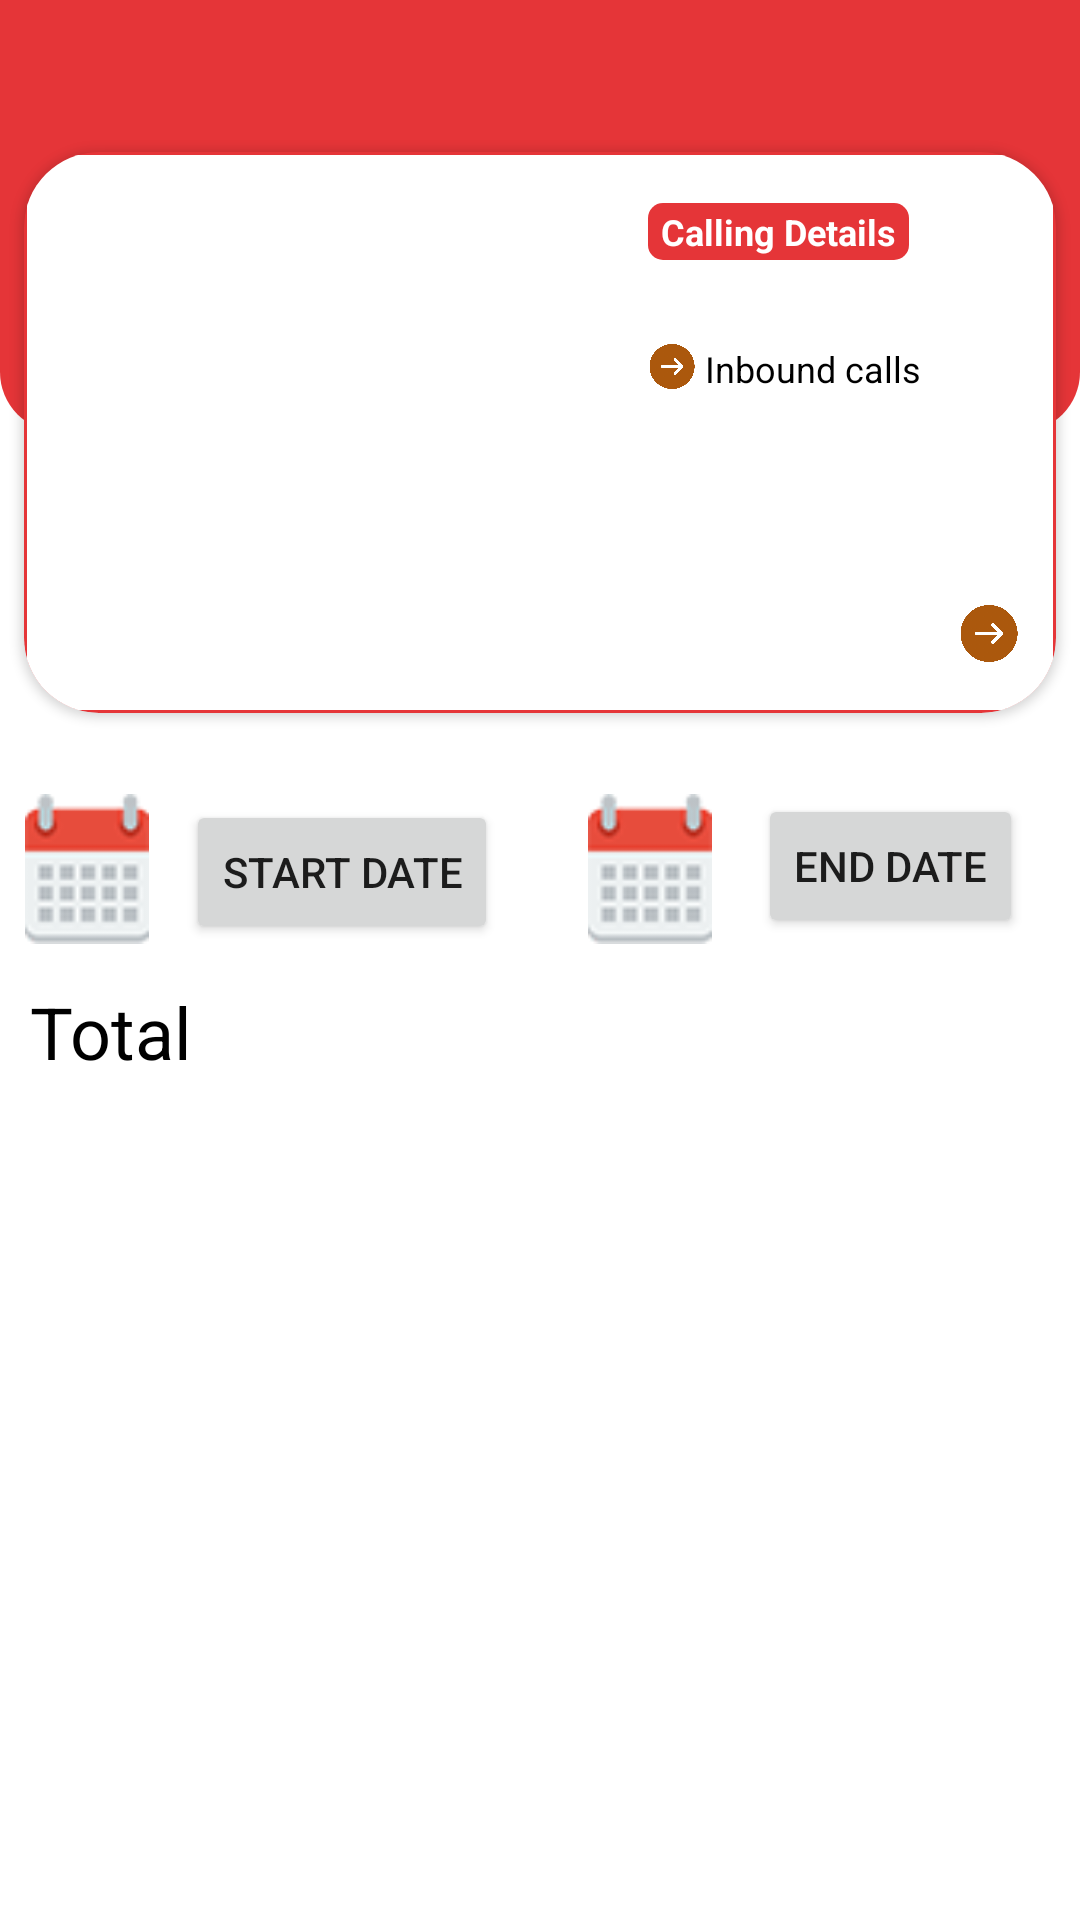

Named icons in this screenshot (1080px×1920px) and their bounding boxes, (left=x1, top=y1, right=x2, bottom=y2):
calendar: (left=25, top=794, right=149, bottom=944), (left=588, top=794, right=712, bottom=944)
